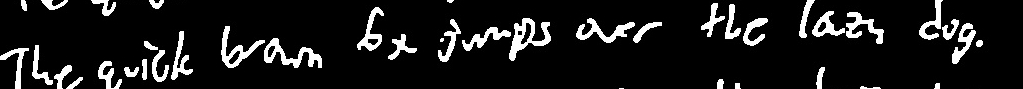The quick brown fox jumps over the lazy dog.: (0, 0, 1023, 89)
